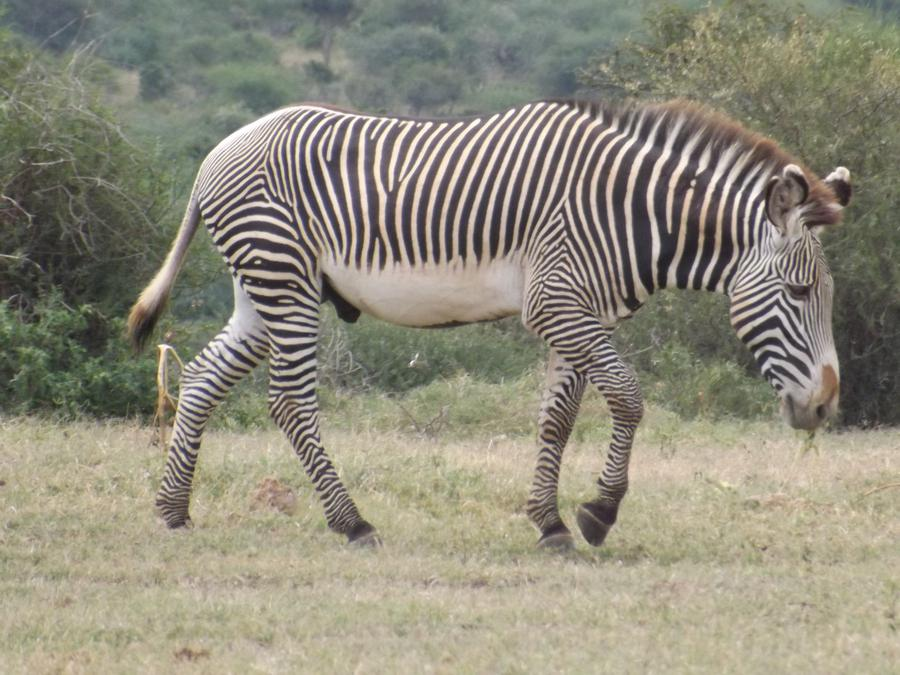zebra_grevys: (191, 78, 615, 331)
